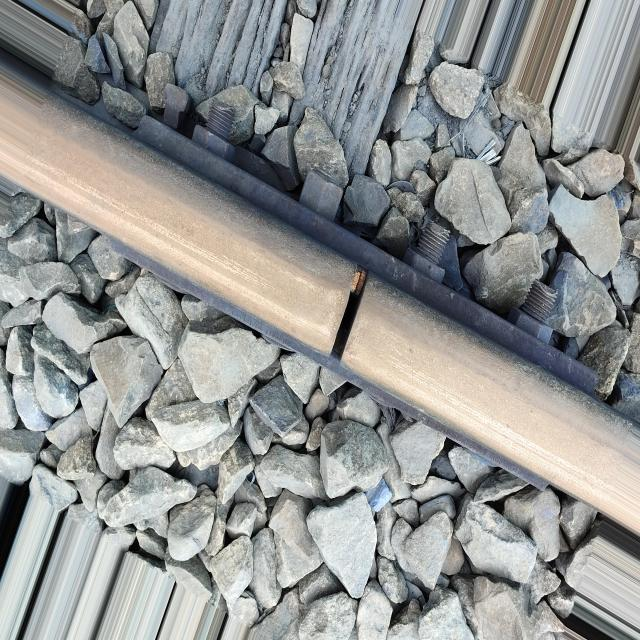crack: (318, 265, 388, 369)
